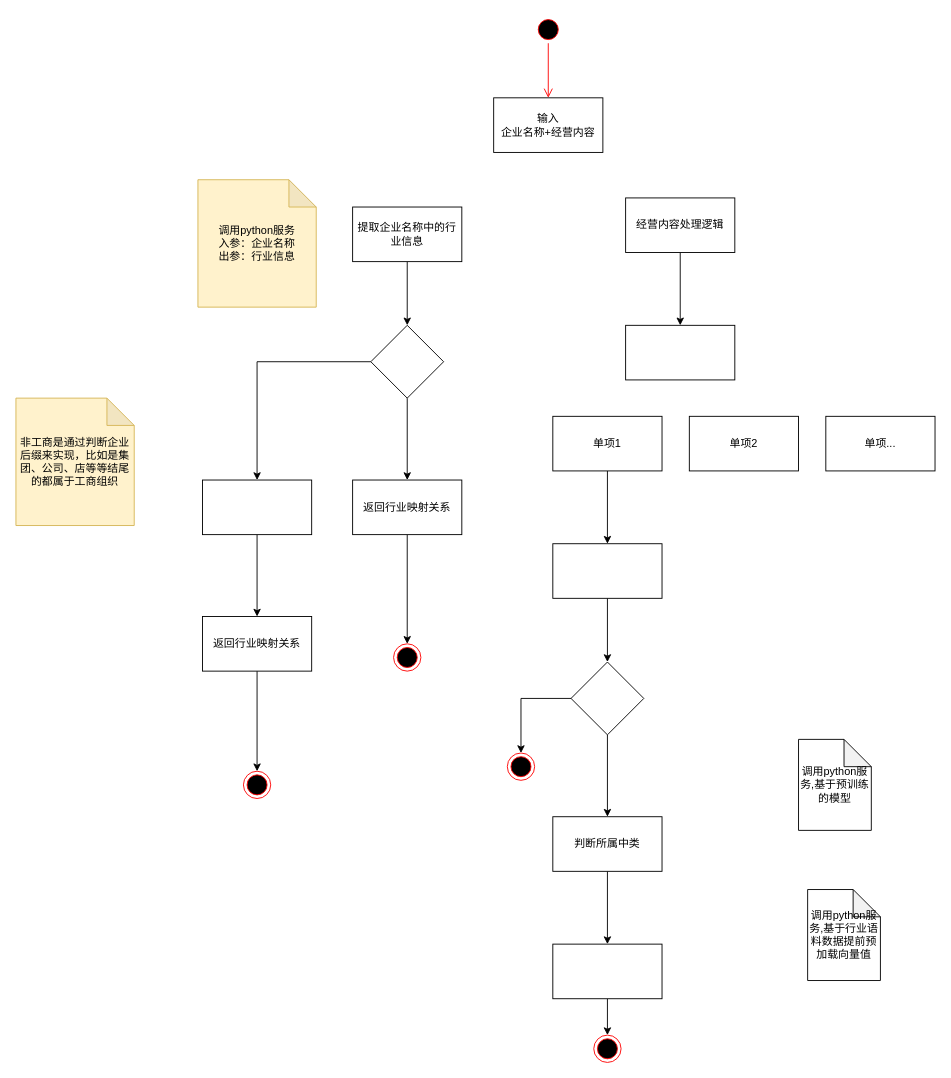
The diagram is 951 pixels wide and 1078 high, and some of its shapes have lost their labels. Each missing label, with the centre of its shape:
"和中类下所有小类依次进行语义匹配，取得分最高的前五个" belongs at point 607,971.
"提取动词+名词" belongs at point 607,570.
"是否直接匹配字典" belongs at point 607,698.
"经营内容拆分为一个个单独的单项内容" belongs at point 680,352.
"行业信息是否有对应的行业映射关系" belongs at point 407,361.
"非工商组织,进行事业单位机关判断" belongs at point 257,507.
